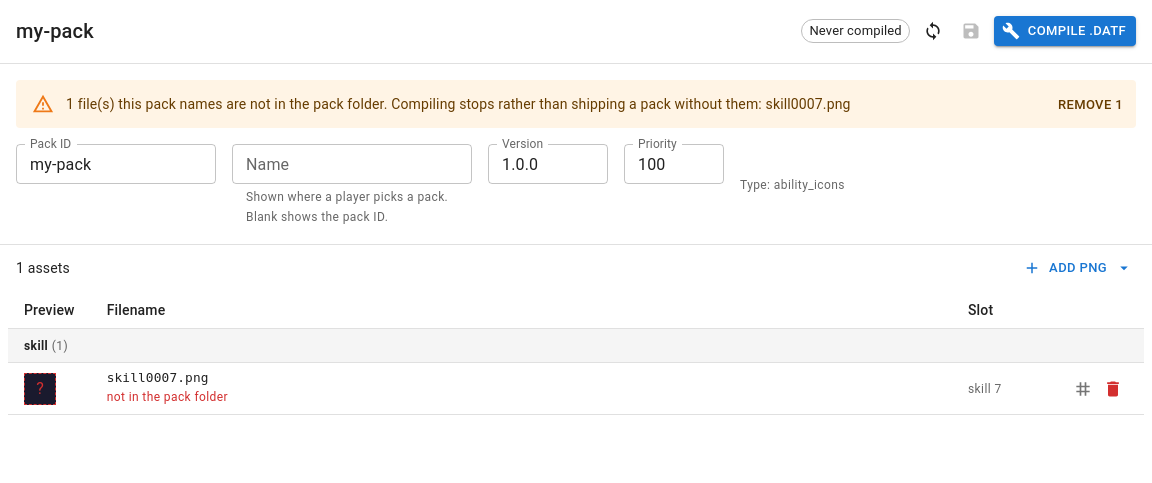
Test: PackEditor — add and remove assets › ability_icons opens a menu and adding a Skill produces skill0008.png after skill0007
Step 1. Click the button "Add PNG" → (1078, 268), box [1020,253,1136,284]
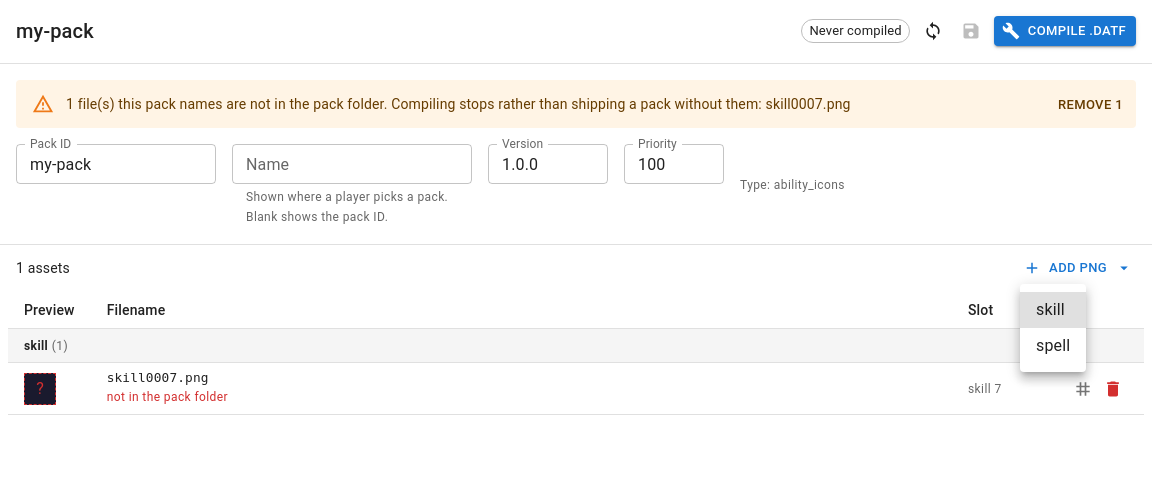
Menu opens — pick "skill"
Step 2. Click the menu item "skill" → (1053, 310), box [1020,292,1086,328]
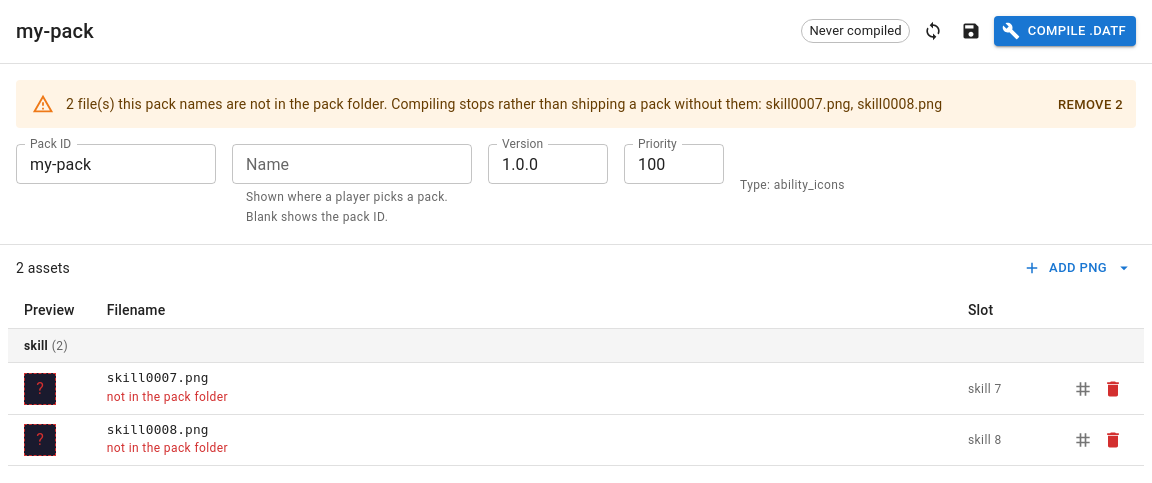
Result: the text "skill0008.png" is shown at [107,422,209,437]
